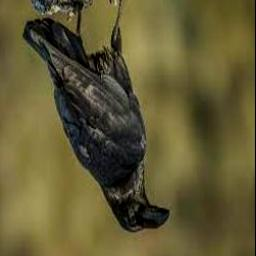Crow: (23, 0, 170, 232)
